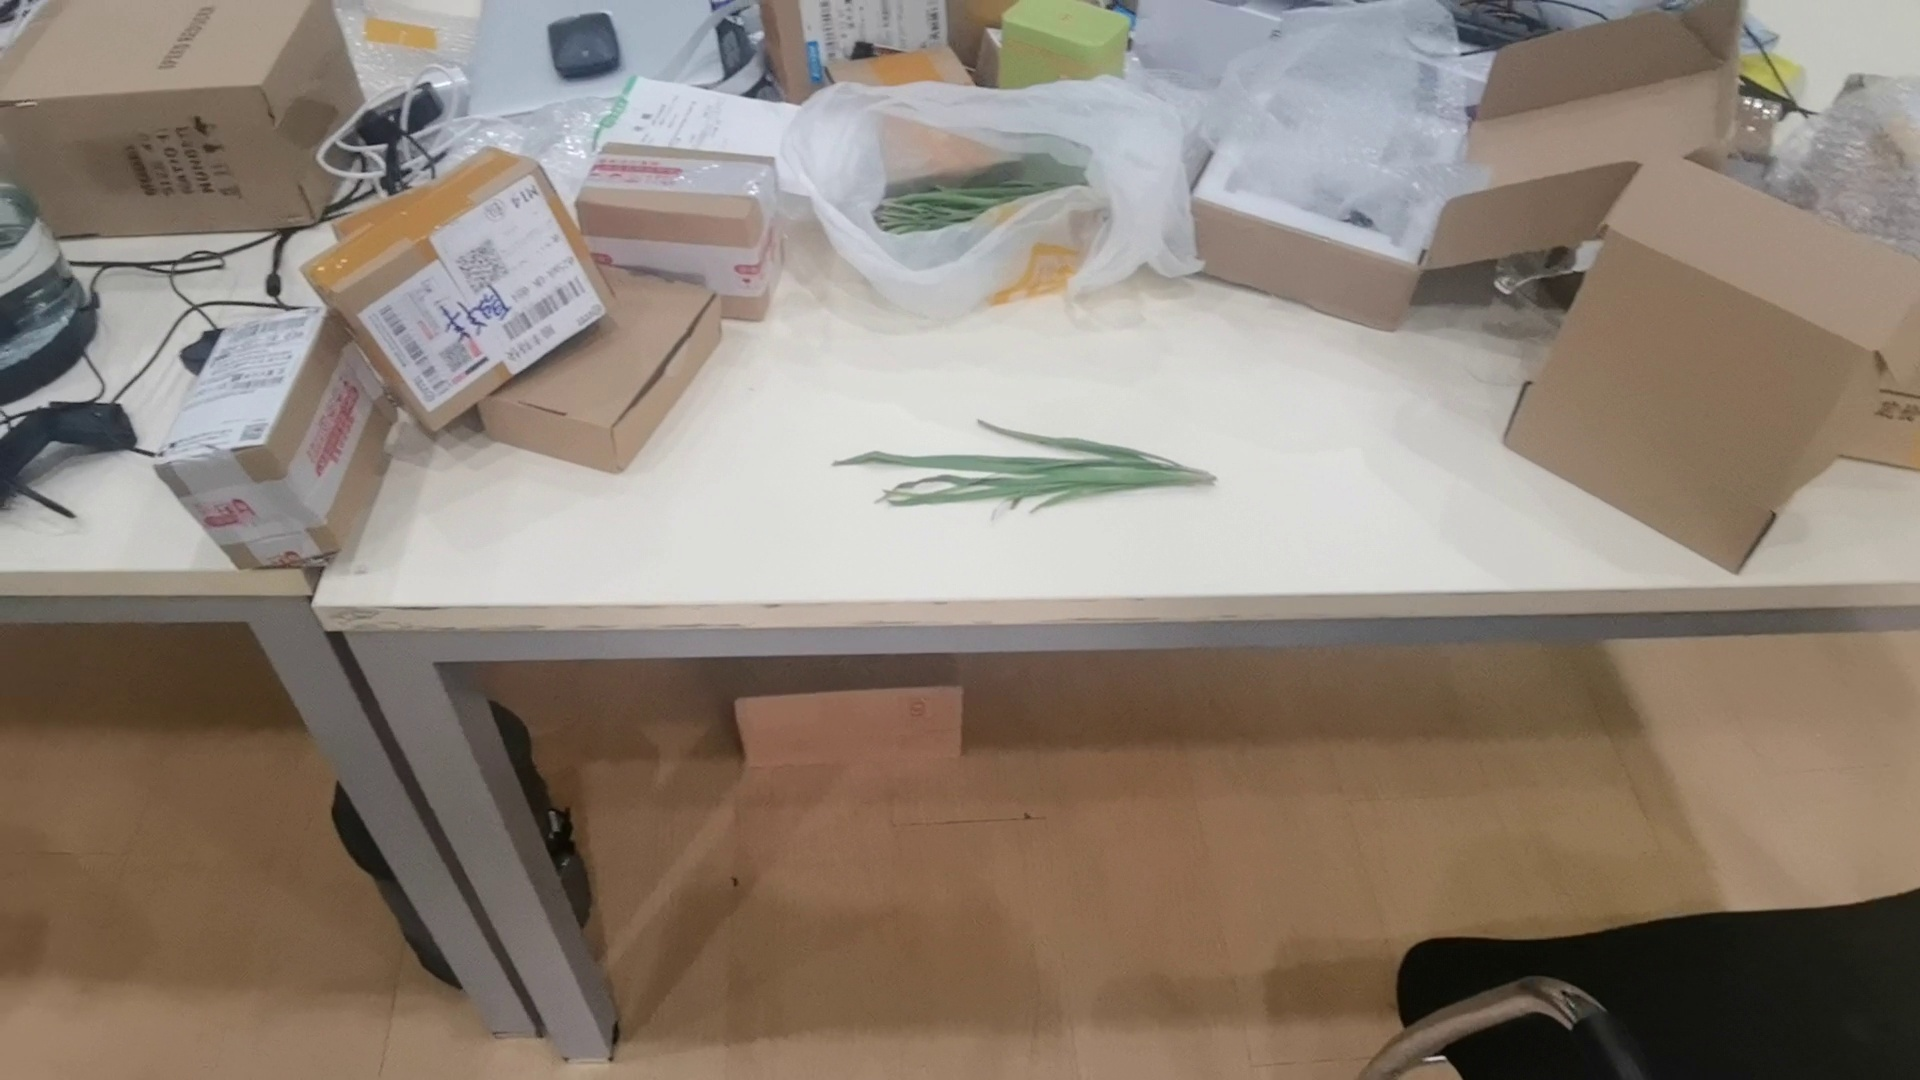chives: (808, 396, 1251, 513)
